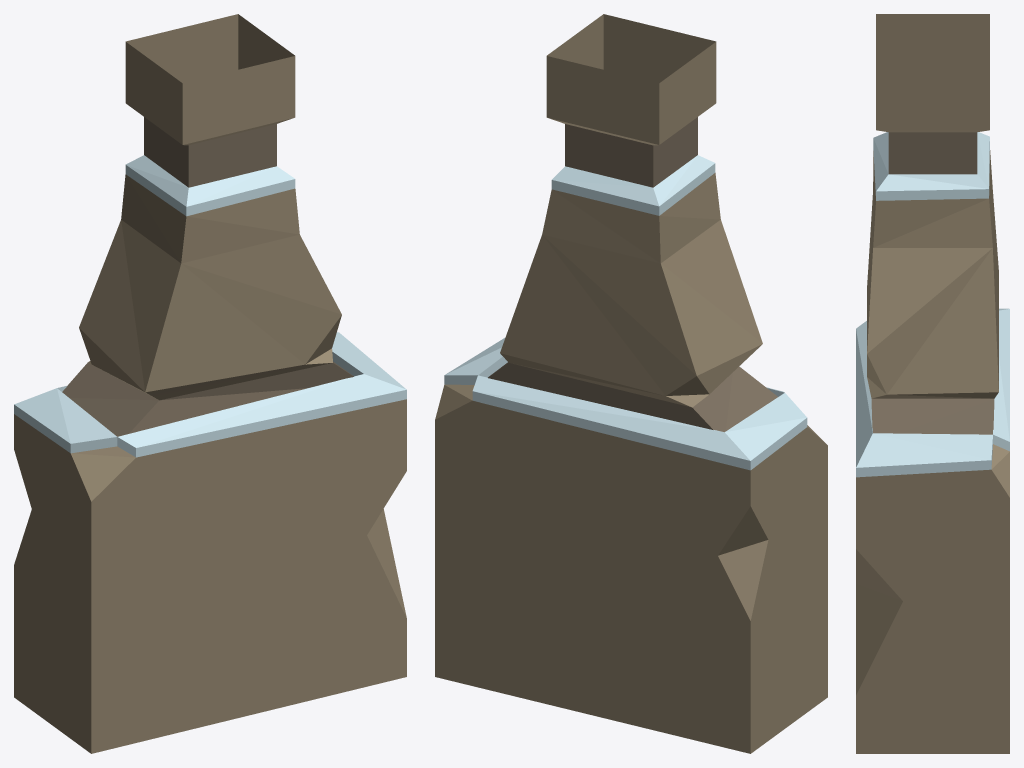
File: SM_Bld_House_Chimney_01_Snow.gltf
3 views of the same model, side by side, from view 1: azimuth 30°, elevation 25°; view 2: azimuth 150°, elevation 25°; view 3: azimuth 270°, elevation 25° (orthographic).
Parts seen in each view (by area): view 1: SM_Bld_House_Chimney_01_Snow; view 2: SM_Bld_House_Chimney_01_Snow; view 3: SM_Bld_House_Chimney_01_Snow.
Boxes of the visible parts, x1,y1,x2,y2 form: SM_Bld_House_Chimney_01_Snow: (14,14,406,753); SM_Bld_House_Chimney_01_Snow: (435,14,827,753); SM_Bld_House_Chimney_01_Snow: (856,14,1009,753).
Size of the model in its own units: 2.38 by 4.6 by 1.01.
1 material, 1 textured.
